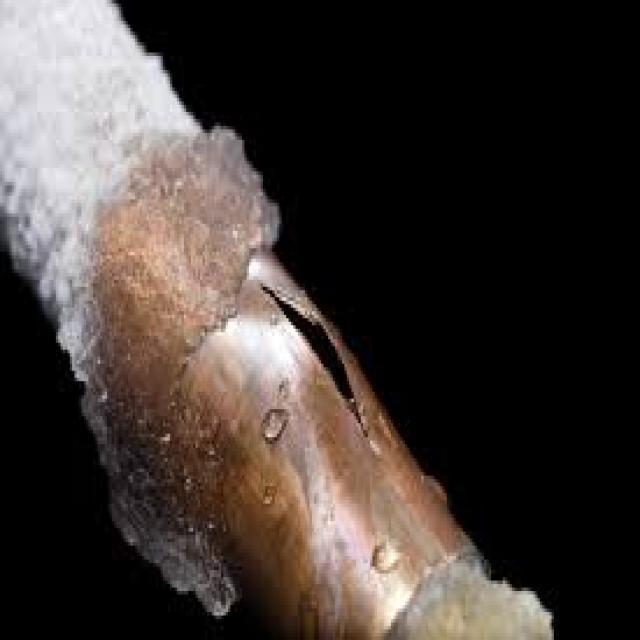crack: (264, 284, 378, 456)
